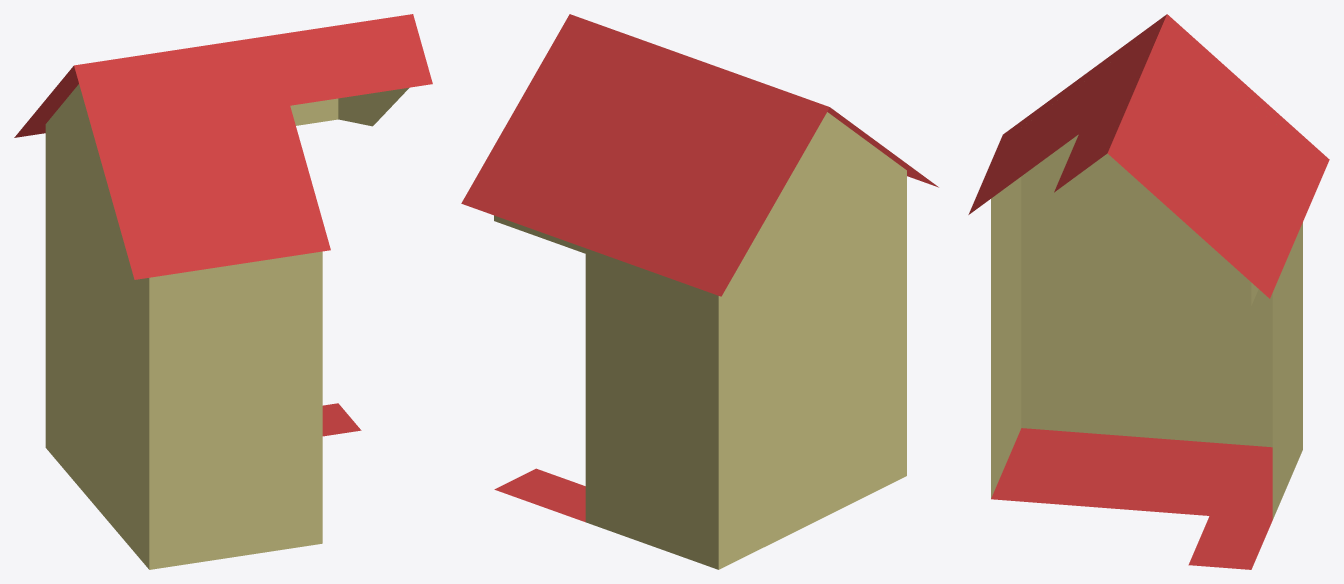
3 renders of one model, left to right at view 1: azimuth 30°, elevation 25°; view 2: azimuth 150°, elevation 25°; view 3: azimuth 270°, elevation 25°, orthographic. The views are drawn at different scales.
Size of the model in its own units: 12.74 by 11.83 by 15.
